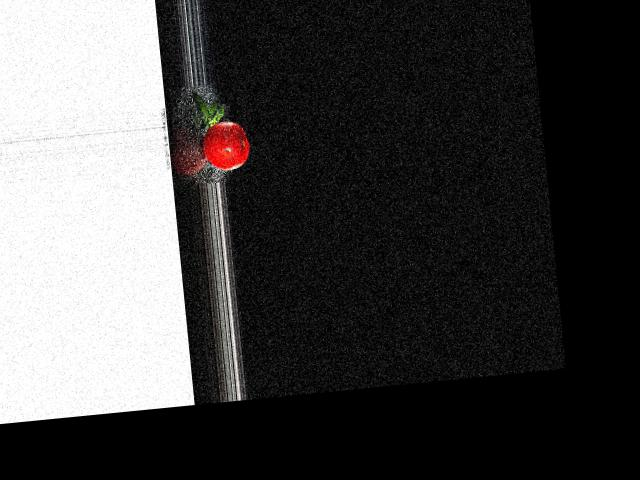tomato: (201, 119, 251, 171)
